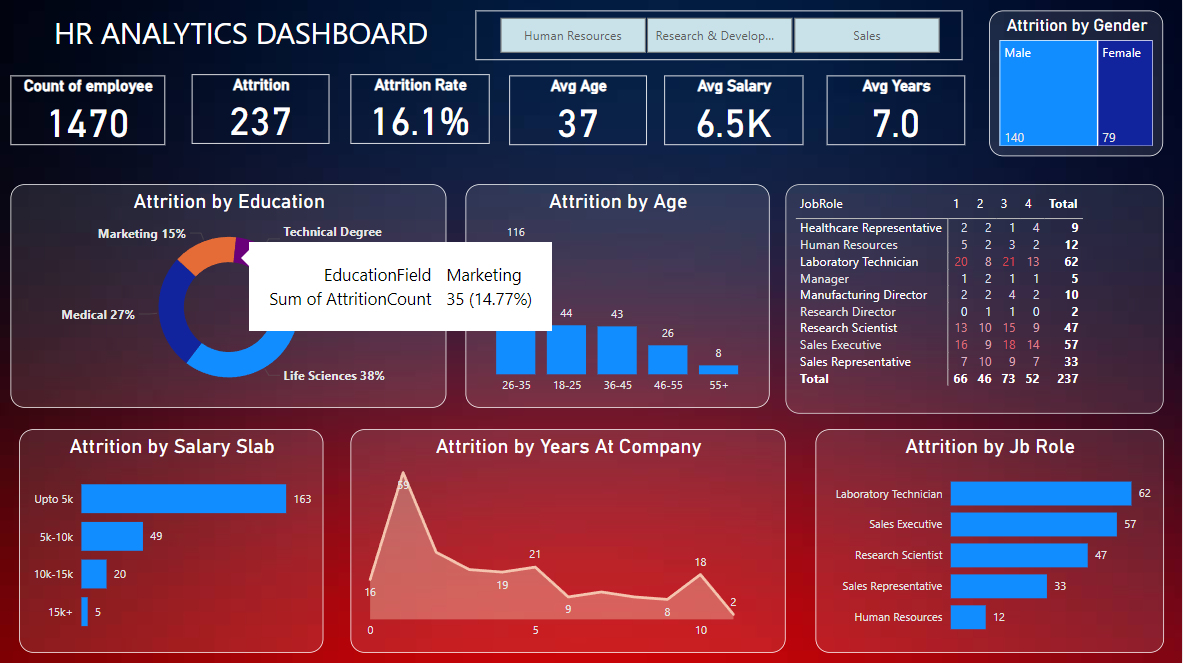

This screenshot's page, from the dashboard's own definition file:
{"tool":"powerbi","page":{"name":"Page 1","canvas":[1280,720],"ordinal":0},"visuals":[{"type":"card","title":"Count of employee","fields":{"Values":["Count(HR_Analytics.EmpID)"]},"box":[14,84,167,75],"z":0},{"type":"card","title":"Attrition","fields":{"Values":["Sum(HR_Analytics.AttritionCount)"]},"box":[210,83,149,75],"z":1000},{"type":"card","title":"Attrition Rate","fields":{"Values":["HR_Analytics.AttritionRate"]},"box":[381,83,150,75],"z":2000},{"type":"card","title":"Avg Age","fields":{"Values":["Avg(HR_Analytics.Age)"]},"box":[553,84,149,75],"z":3000},{"type":"card","title":"Avg Years","fields":{"Values":["Avg(HR_Analytics.YearsAtCompany)"]},"box":[896.5,83.6,149.4,75.4],"z":4000},{"type":"card","title":"Avg Salary","fields":{"Values":["Avg(HR_Analytics.MonthlyIncome)"]},"box":[720,84,150,75],"z":5000},{"type":"donutChart","title":"Attrition by Education","fields":{"Category":["HR_Analytics.EducationField","HR_Analytics.Education"],"Y":["Sum(HR_Analytics.AttritionCount)"]},"box":[13.7,201.5,471.5,241.3],"z":6000},{"type":"clusteredColumnChart","title":"Attrition by Age","fields":{"Category":["HR_Analytics.AgeGroup"],"Y":["Sum(HR_Analytics.AttritionCount)"]},"box":[505.8,201.5,329,241.3],"z":7000},{"type":"pivotTable","fields":{"Rows":["HR_Analytics.JobRole"],"Columns":["HR_Analytics.JobSatisfaction"],"Values":["Sum(HR_Analytics.AttritionCount)"]},"box":[851.2,201.5,408.5,248.1],"z":8000},{"type":"barChart","title":"Attrition by Salary Slab","fields":{"Category":["HR_Analytics.SalarySlab"],"Y":["Sum(HR_Analytics.AttritionCount)"]},"box":[23.3,466.1,329,241.3],"z":9000},{"type":"barChart","title":"Attrition by Jb Role","fields":{"Y":["Sum(HR_Analytics.AttritionCount)"],"Category":["HR_Analytics.JobRole"]},"box":[883.1,465.7,376.4,241.3],"z":10000},{"type":"areaChart","title":"Attrition by Years At Company","fields":{"Y":["Sum(HR_Analytics.AttritionCount)"],"Category":["HR_Analytics.YearsAtCompany"]},"box":[381.2,465.7,470.5,241.3],"z":11000},{"type":"treemap","title":"Attrition by Gender","fields":{"Group":["HR_Analytics.Gender"],"Values":["Sum(HR_Analytics.AttritionCount)"]},"box":[1071.9,13.7,187.8,157.6],"z":12000},{"type":"slicer","fields":{"Values":["HR_Analytics.Department"]},"box":[516.8,13.7,526.4,53.5],"z":13000},{"type":"textbox","box":[23,11,479,73],"z":14000}]}

Visuals, with their boxes in screenshot pixels (x1, y1, x2, y2), scaled from the page's 1280x720 canvas onto the 1183x663 screenshot:
"Count of employee" card: 13 77 167 146
"Attrition" card: 194 76 332 145
"Attrition Rate" card: 352 76 491 145
"Avg Age" card: 511 77 649 146
"Avg Years" card: 829 77 967 146
"Avg Salary" card: 665 77 804 146
"Attrition by Education" donutChart: 13 186 448 408
"Attrition by Age" clusteredColumnChart: 467 186 772 408
pivotTable - HR_Analytics.JobRole x HR_Analytics.JobSatisfaction: 787 186 1164 414
"Attrition by Salary Slab" barChart: 22 429 326 651
"Attrition by Jb Role" barChart: 816 429 1164 651
"Attrition by Years At Company" areaChart: 352 429 787 651
"Attrition by Gender" treemap: 991 13 1164 158
slicer - HR_Analytics.Department: 478 13 964 62
textbox: 21 10 464 77
